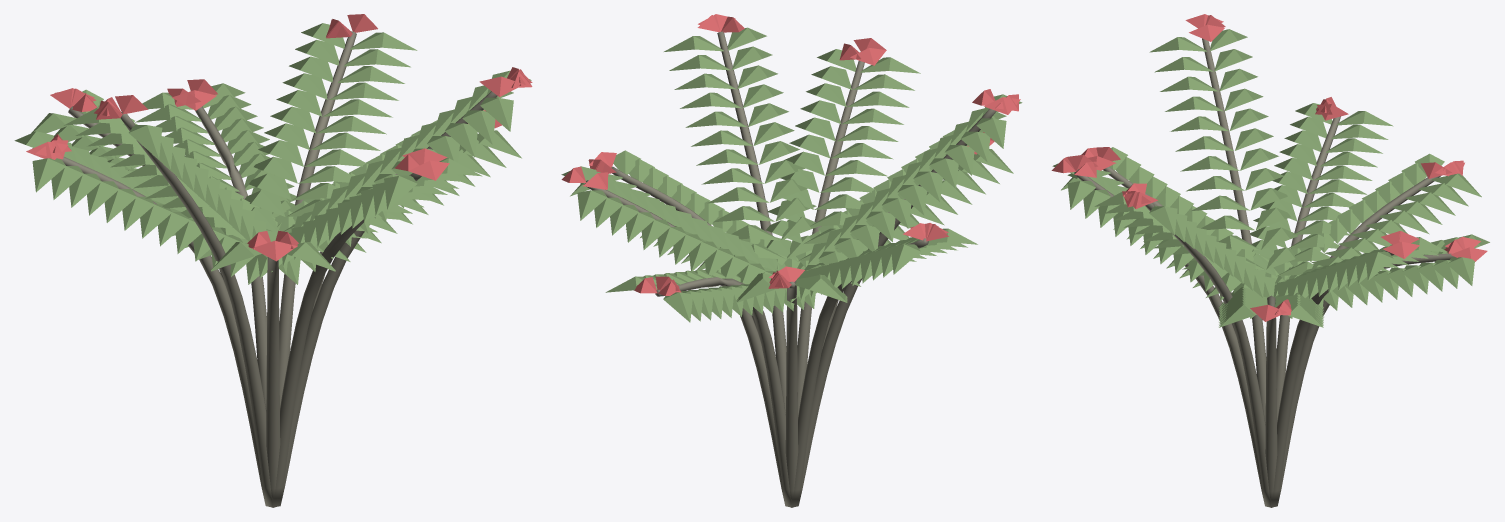
The model's file is grove-specimen-21.glb.
The picture shows the model from 3 angles, left to right: view 1: azimuth 30°, elevation 25°; view 2: azimuth 150°, elevation 25°; view 3: azimuth 270°, elevation 25°; orthographic projection. The views are drawn at different scales.
Parts seen in each view (by area): view 1: grove-specimen-21; view 2: grove-specimen-21; view 3: grove-specimen-21.
Part boxes in pixels (x1=…): grove-specimen-21: x1=14, y1=14, x2=532, y2=507; grove-specimen-21: x1=561, y1=14, x2=1022, y2=507; grove-specimen-21: x1=1051, y1=14, x2=1489, y2=507.
Bounding box in the file's own units: 1.59 × 1.62 × 1.58.
